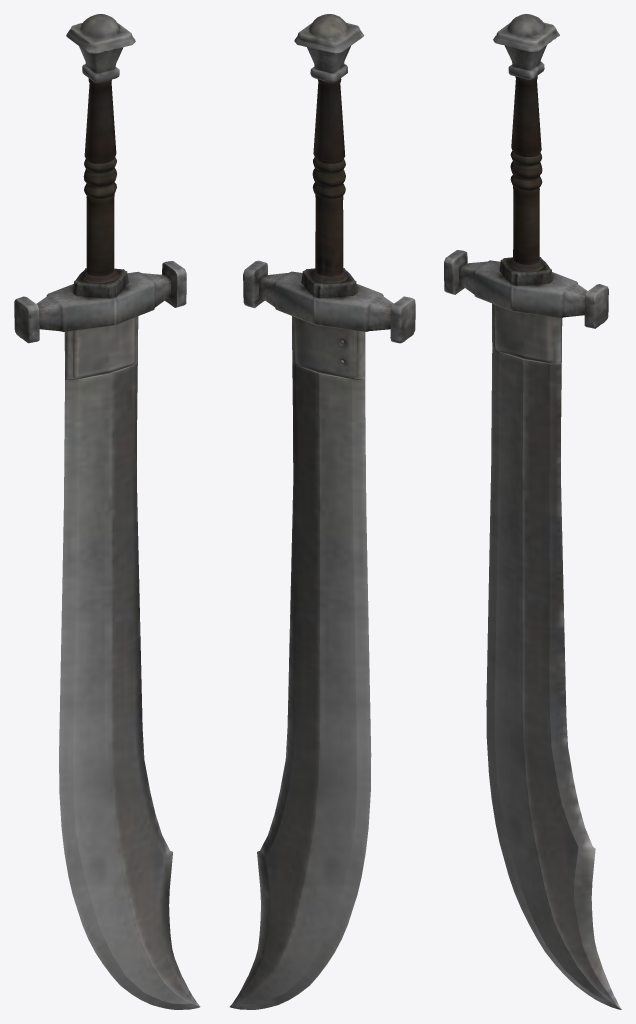
The model's file is weapon-wp_a_0465.glb.
3 renders of one model, left to right at view 1: azimuth 30°, elevation 25°; view 2: azimuth 150°, elevation 25°; view 3: azimuth 330°, elevation 25°, orthographic. The views are drawn at different scales.
Parts seen in each view (by area): view 1: wp_a_0465_mesh; view 2: wp_a_0465_mesh; view 3: wp_a_0465_mesh.
Part boxes in pixels (bbox=[...]): wp_a_0465_mesh: bbox=[14, 14, 200, 1009]; wp_a_0465_mesh: bbox=[230, 14, 415, 1009]; wp_a_0465_mesh: bbox=[444, 14, 621, 1009].
Size of the model in its own units: 0.3005 by 1.61 by 0.0853.
Materials: 1 (1 with a texture image).
